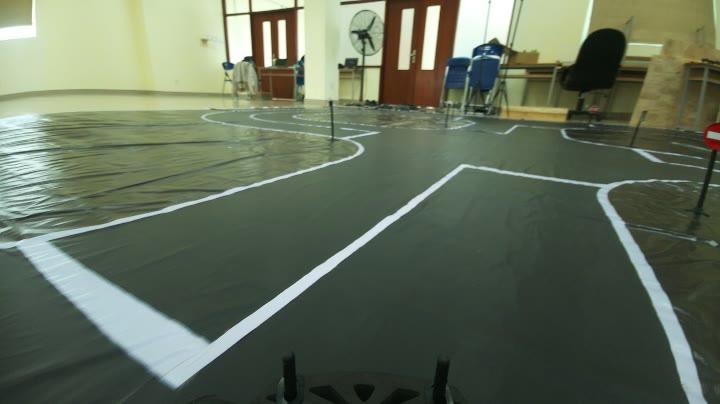no_entry: (697, 118, 720, 154)
